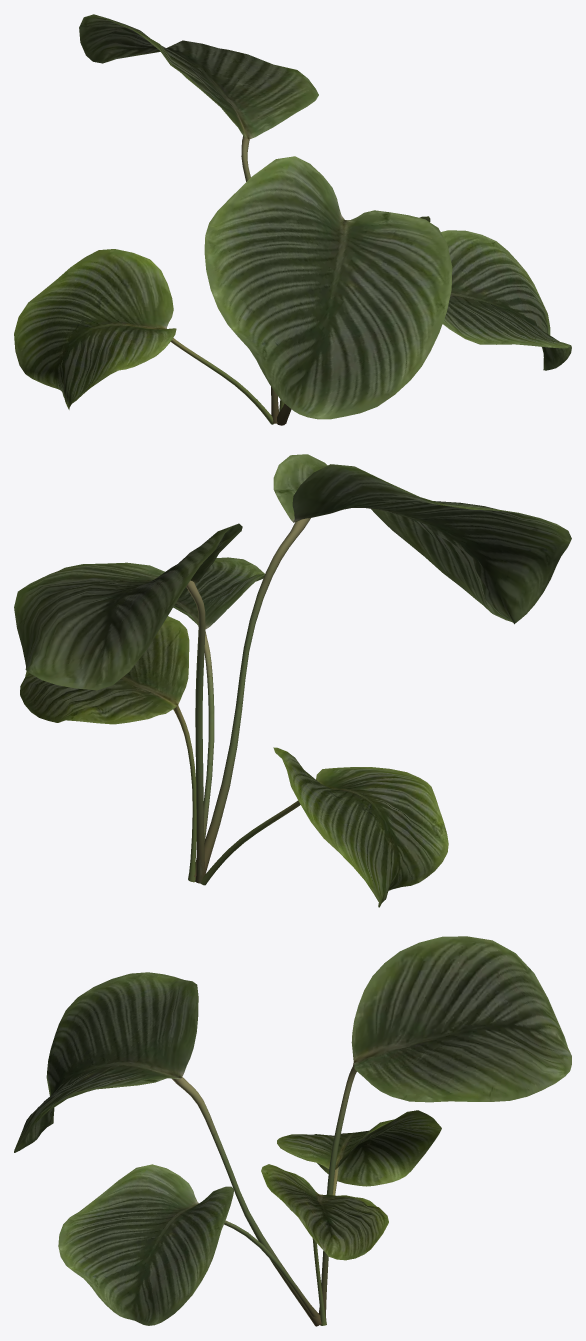
File: calathea.glb
3 renders of one model, top to bottom at view 1: azimuth 30°, elevation 25°; view 2: azimuth 150°, elevation 25°; view 3: azimuth 270°, elevation 25°, orthographic. The views are drawn at different scales.
Visible parts, largest first — view 1: calathea_orbifolia_01_b; view 2: calathea_orbifolia_01_b; view 3: calathea_orbifolia_01_b.
Part boxes in pixels (box(x1,y1,x2,y2)): calathea_orbifolia_01_b: box(14, 14, 571, 425); calathea_orbifolia_01_b: box(14, 454, 571, 907); calathea_orbifolia_01_b: box(14, 936, 571, 1326).
Bounding box in the file's own units: 1.03 × 0.9 × 1.31.
Materials: 1 (1 with a texture image).
